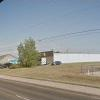Tree: (12, 35, 38, 66)
